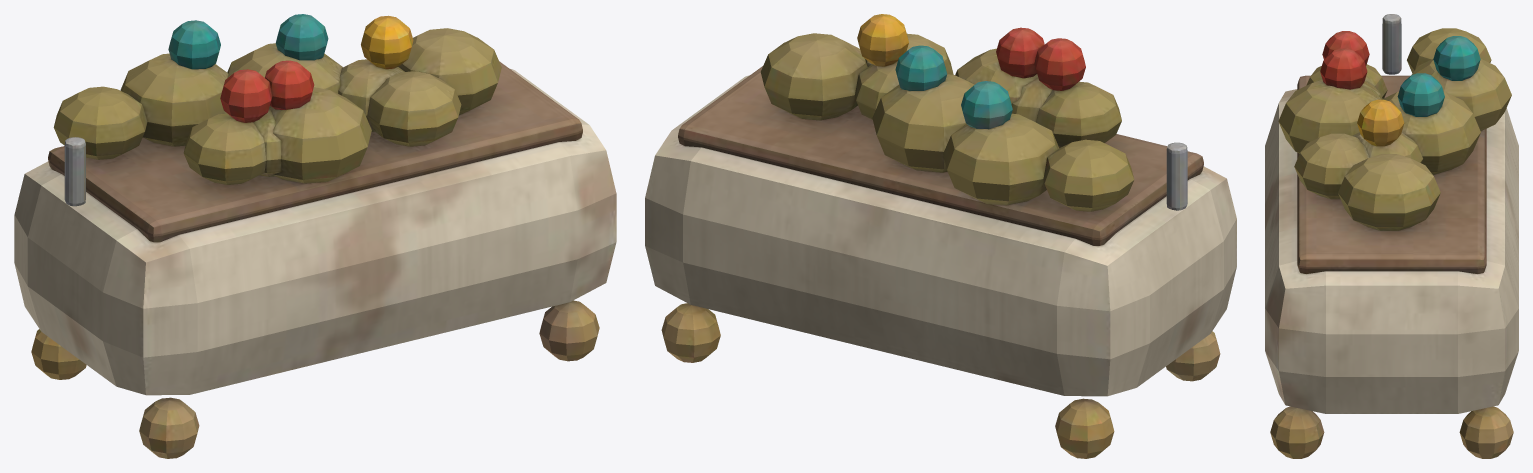
File: bathtub_planter.glb
3 views of the same model, side by side, from view 1: azimuth 30°, elevation 25°; view 2: azimuth 150°, elevation 25°; view 3: azimuth 270°, elevation 25° (orthographic). The views are drawn at different scales.
Visible parts, largest first — view 1: BathtubPlanter_Mesh; view 2: BathtubPlanter_Mesh; view 3: BathtubPlanter_Mesh.
Boxes of the visible parts, left/top/right/bottom form: BathtubPlanter_Mesh: left=14, top=14, right=616, bottom=458; BathtubPlanter_Mesh: left=645, top=14, right=1236, bottom=458; BathtubPlanter_Mesh: left=1265, top=14, right=1518, bottom=458.
Bounding box in the file's own units: 1.5 × 0.97 × 0.75.
1 material, 1 textured.
